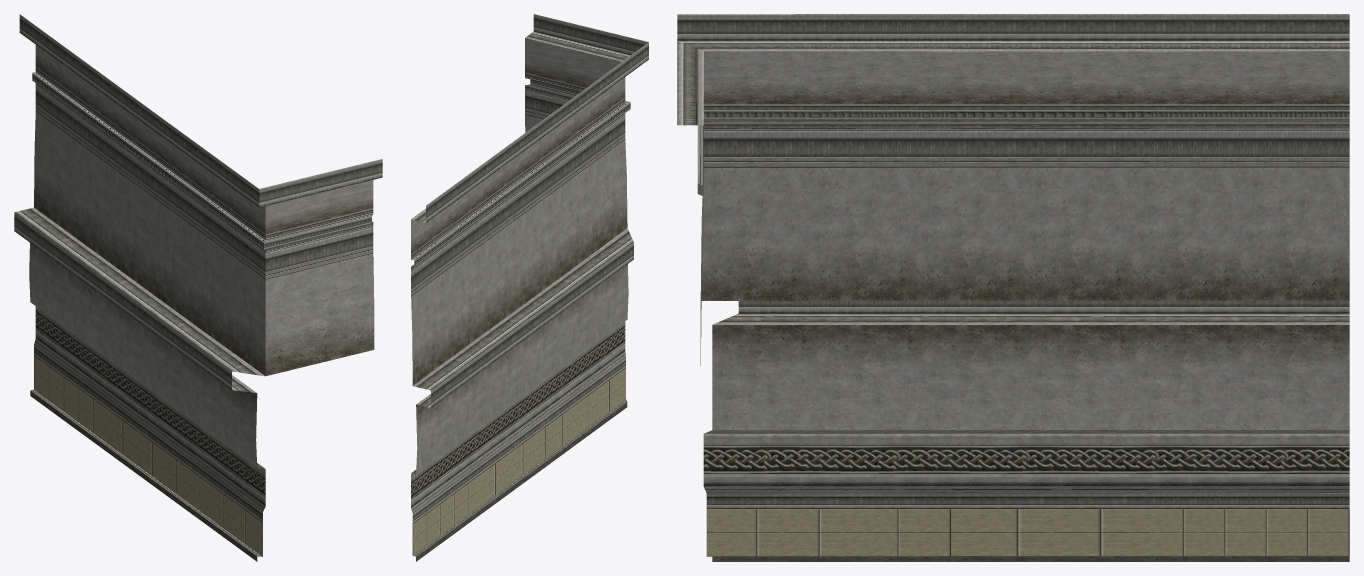
File: DWARF_PALACE_GEAR_ROOM_WALL01B.fbx
3 renders of one model, left to right at view 1: azimuth 30°, elevation 25°; view 2: azimuth 150°, elevation 25°; view 3: azimuth 270°, elevation 25°, orthographic. The views are drawn at different scales.
Parts seen in each view (by area): view 1: DWARF_PALACE_GEAR_ROOM_WALL01B; view 2: DWARF_PALACE_GEAR_ROOM_WALL01B; view 3: DWARF_PALACE_GEAR_ROOM_WALL01B.
Boxes of the visible parts, <box> form: DWARF_PALACE_GEAR_ROOM_WALL01B: <box>14,14,382,561</box>; DWARF_PALACE_GEAR_ROOM_WALL01B: <box>411,14,648,561</box>; DWARF_PALACE_GEAR_ROOM_WALL01B: <box>677,14,1349,561</box>.
Bounding box in the file's own units: 72127 × 205002 × 231031.
Materials: 7 (7 with a texture image).
